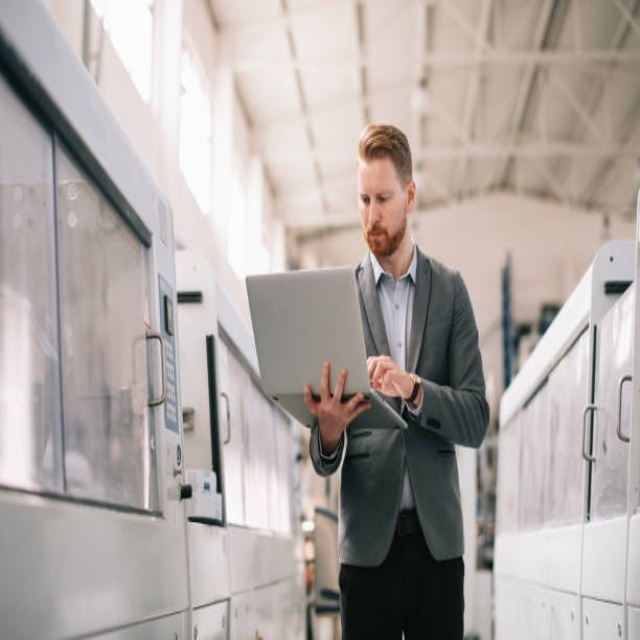Sin_gafas: (355, 182, 402, 213)
Sin_guantes: (302, 361, 368, 441), (367, 344, 410, 402)
Sin_mascara: (364, 224, 391, 251)
